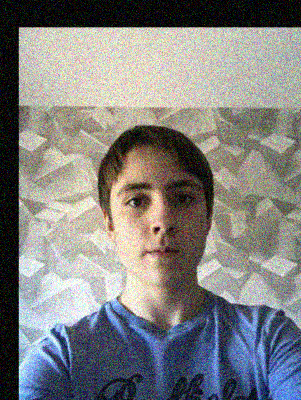without_mask: (113, 178, 210, 288)
